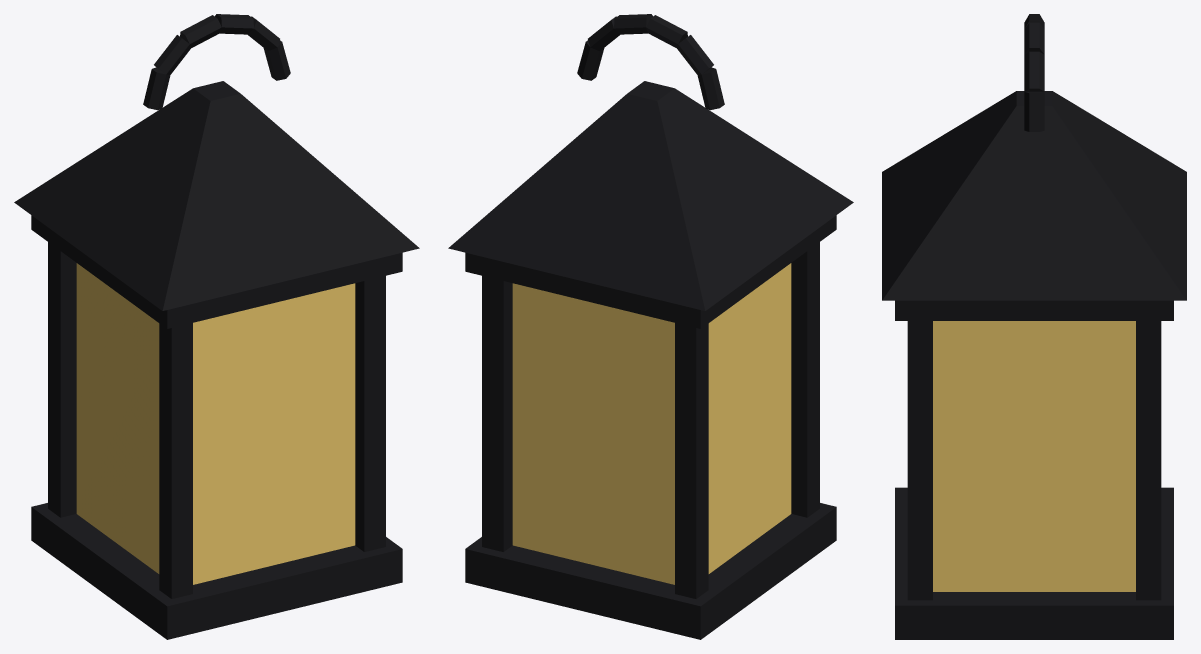
The model's file is lantern.obj.
3 views of the same model, side by side, from view 1: azimuth 30°, elevation 25°; view 2: azimuth 150°, elevation 25°; view 3: azimuth 270°, elevation 25° (orthographic). The views are drawn at different scales.
Parts seen in each view (by area): view 1: lantern; view 2: lantern; view 3: lantern.
Part boxes in pixels (left/top/right/bottom): lantern: left=14, top=14, right=419, bottom=639; lantern: left=448, top=14, right=853, bottom=639; lantern: left=882, top=14, right=1186, bottom=639.
Bounding box in the file's own units: 0.2404 × 0.4867 × 0.2404.
